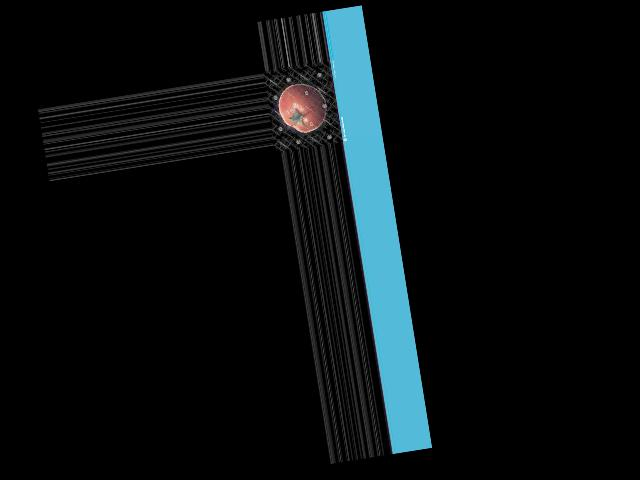tomato: (275, 79, 329, 136)
